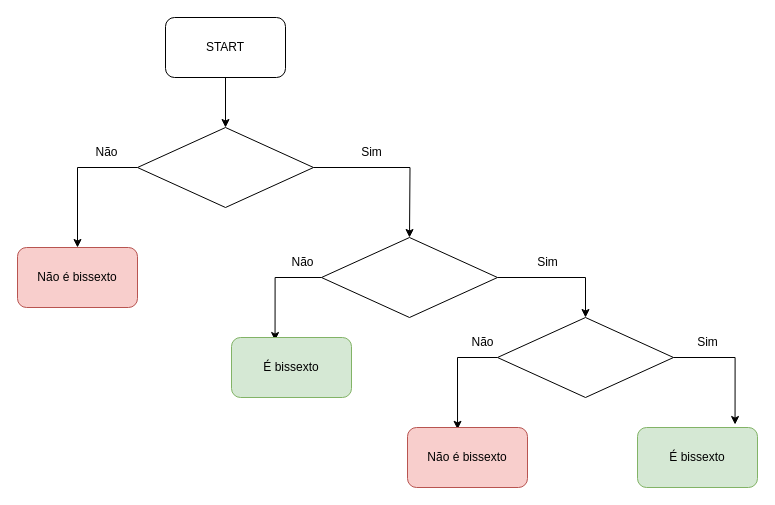
The diagram is 775 pixels wide and 505 high, and some of its shapes have lost their labels. Each missing label, with the centre of its shape:
Número é divisível por 100?: the point at 409,277
Número é divisível por 400?: the point at 585,357
Número é divisível por 4?: the point at 225,167
